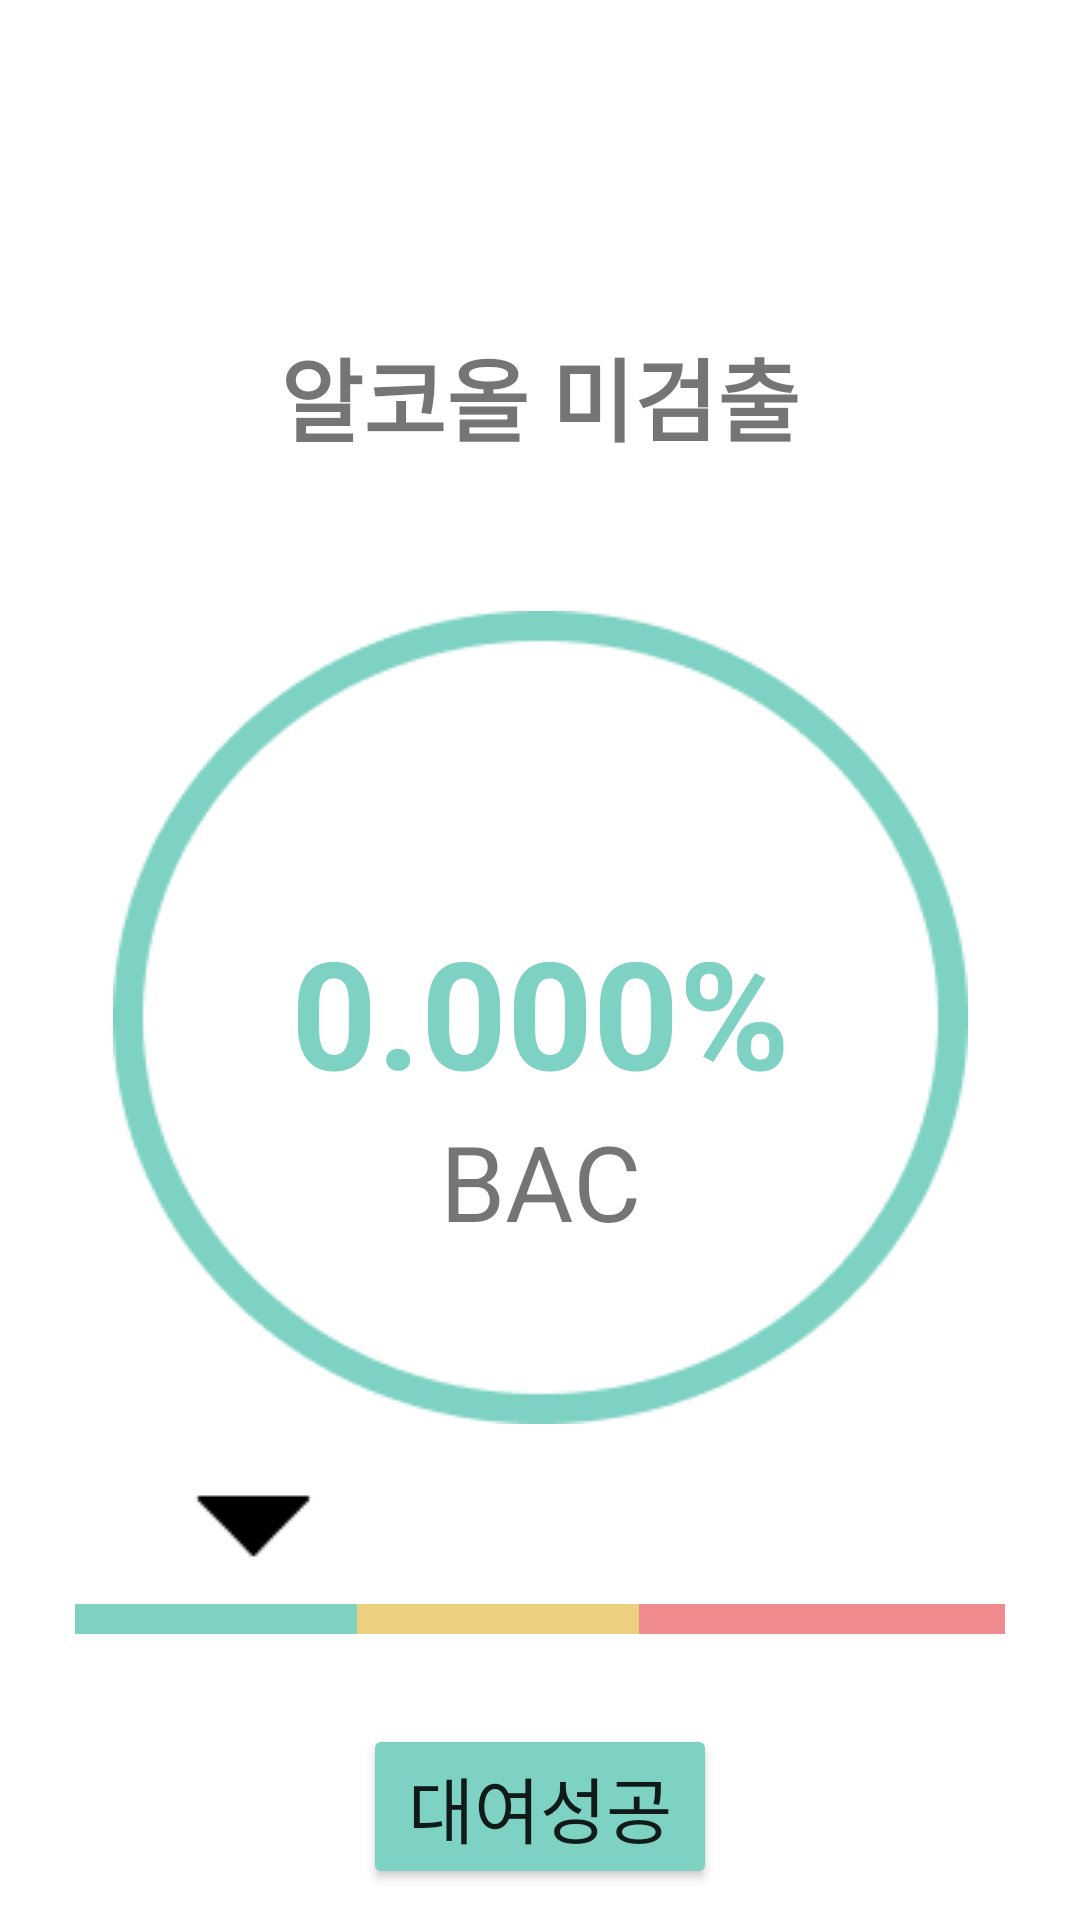

Named icons in this screenshot (1080 x 1920) and their centers, (x=x, y=y):
downward arrow: (x=253, y=1526)
